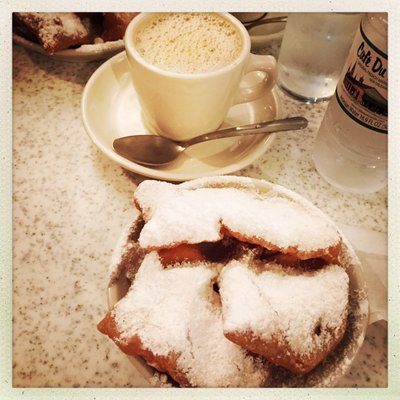pizza: (276, 13, 360, 104)
salad: (111, 115, 309, 166)
